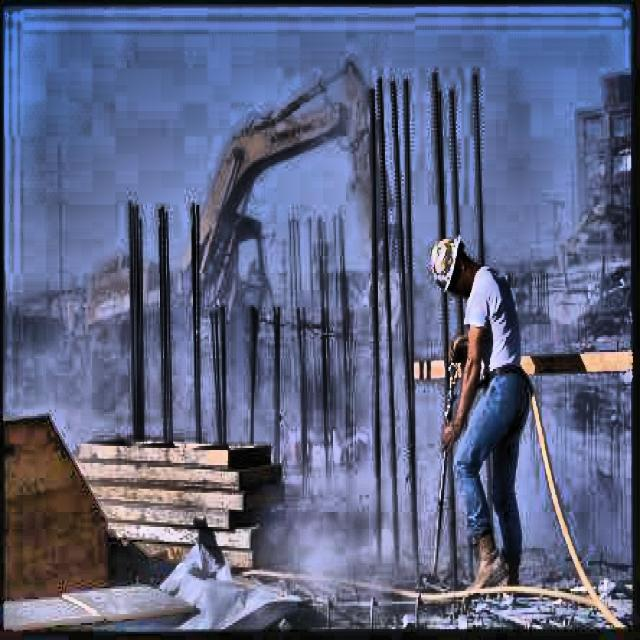helmet: (425, 237, 477, 294)
